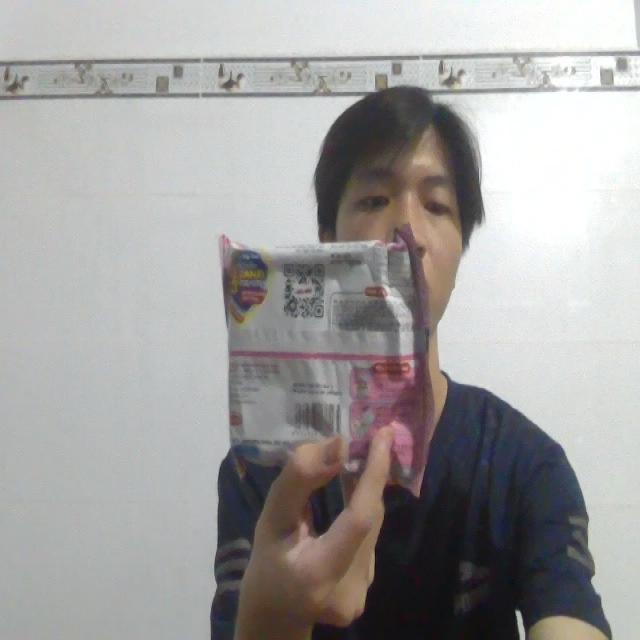mi hao hao: (191, 210, 464, 531)
